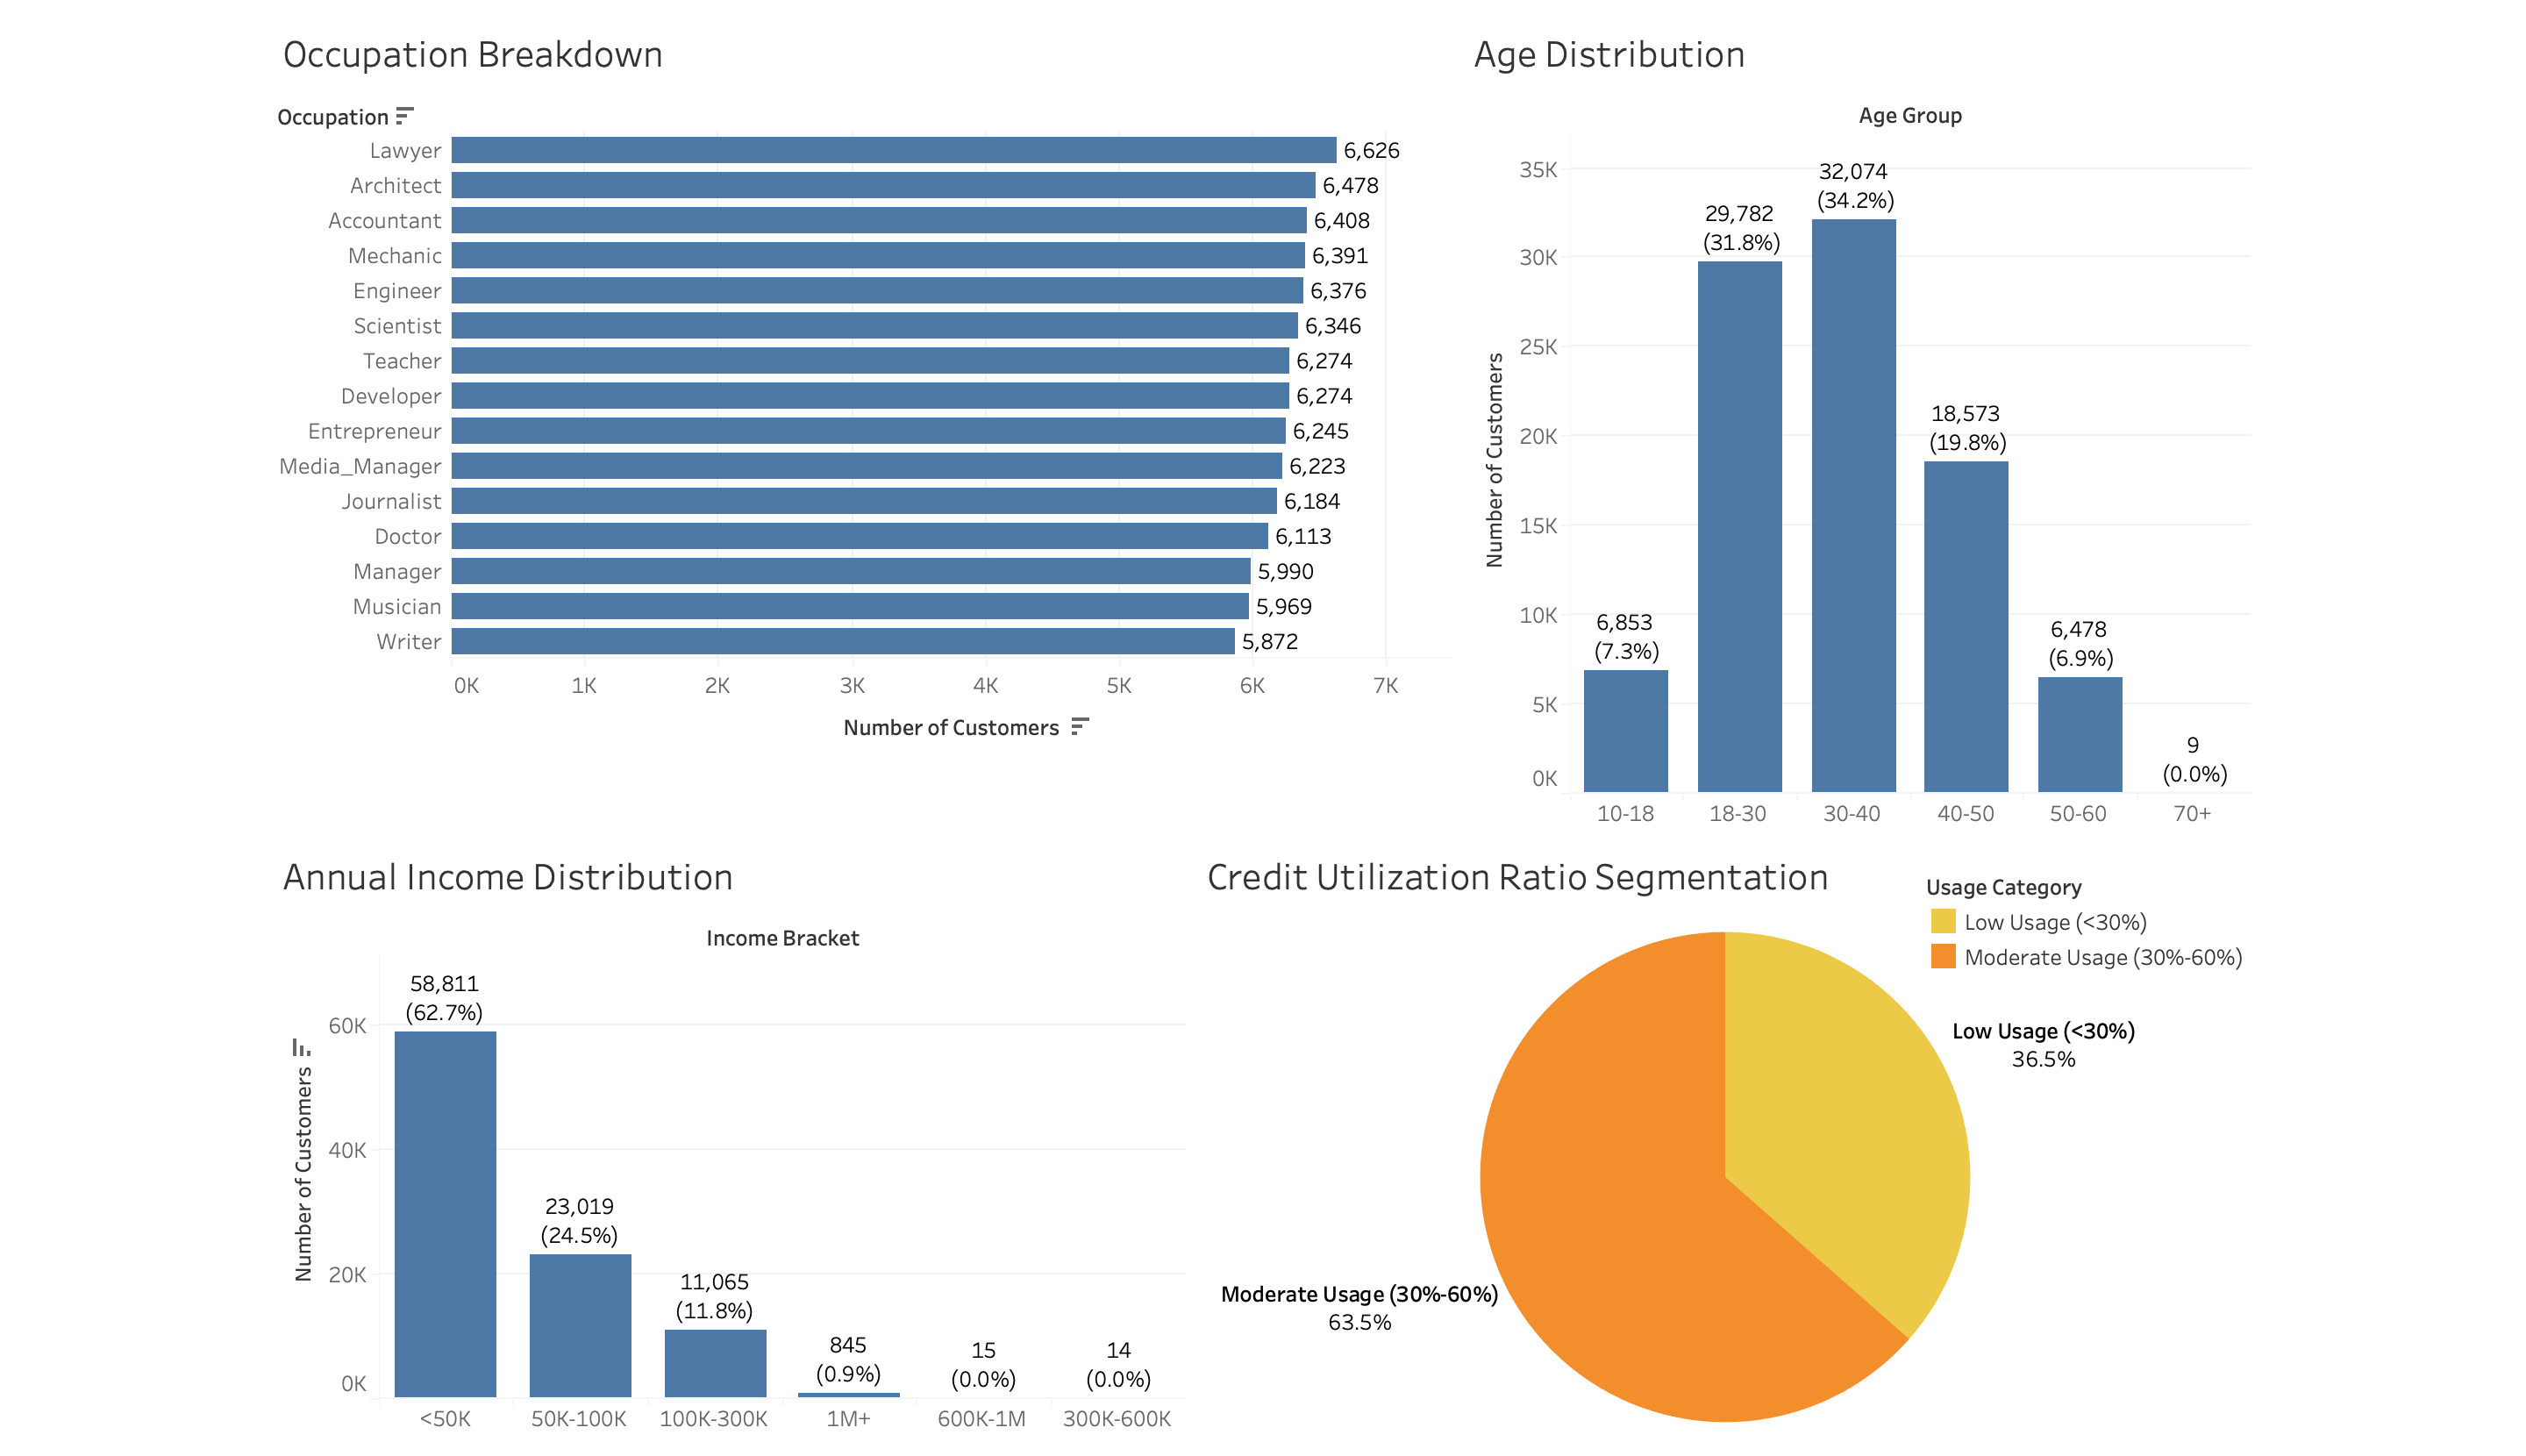

The page's visual inventory and layout, read from the dashboard file:
{"tool":"tableau","page":{"name":"Dataset Overview","canvas":[1000,1000],"units":"permille","ordinal":1},"visuals":[{"type":"worksheet","title":"Occupation Breakdown","mark":"Automatic","rows":["Occupation"],"cols":["Count"],"box":[7,10.4,590,563.8]},{"type":"worksheet","title":"Age Distribution","mark":"Automatic","rows":["Count"],"cols":["Age_Group"],"box":[597,10.4,396,563.8]},{"type":"worksheet","title":"Annual Income Distribution","mark":"Automatic","rows":["Count"],"cols":["Income_Bracket"],"box":[7,574.2,457.9,415.4]},{"type":"worksheet","title":"Credit Utilization Ratio Segmentation","mark":"Pie","box":[464.9,574.2,528,415.4]},{"type":"legend","title":"Credit Utilization Ratio Segmentation","param":"[federated.031spnm1540qqw1606xhc1to1f4k].[none:Usage_Category:nk]","box":[828.4,599,162,75.5]}]}

Visuals, with their boxes on the dashboard's canvas, which has no fixed pixel size, in thousandths of its width and height (x1, y1, x2, y2). These are canvas units, not pixel positions in the 2526x1456 screenshot, which may show the page scaled, cropped or inside an application window:
"Occupation Breakdown" worksheet: box=[7, 10, 597, 574]
"Age Distribution" worksheet: box=[597, 10, 993, 574]
"Annual Income Distribution" worksheet: box=[7, 574, 465, 990]
"Credit Utilization Ratio Segmentation" worksheet (Pie marks): box=[465, 574, 993, 990]
"Credit Utilization Ratio Segmentation" legend: box=[828, 599, 990, 674]
